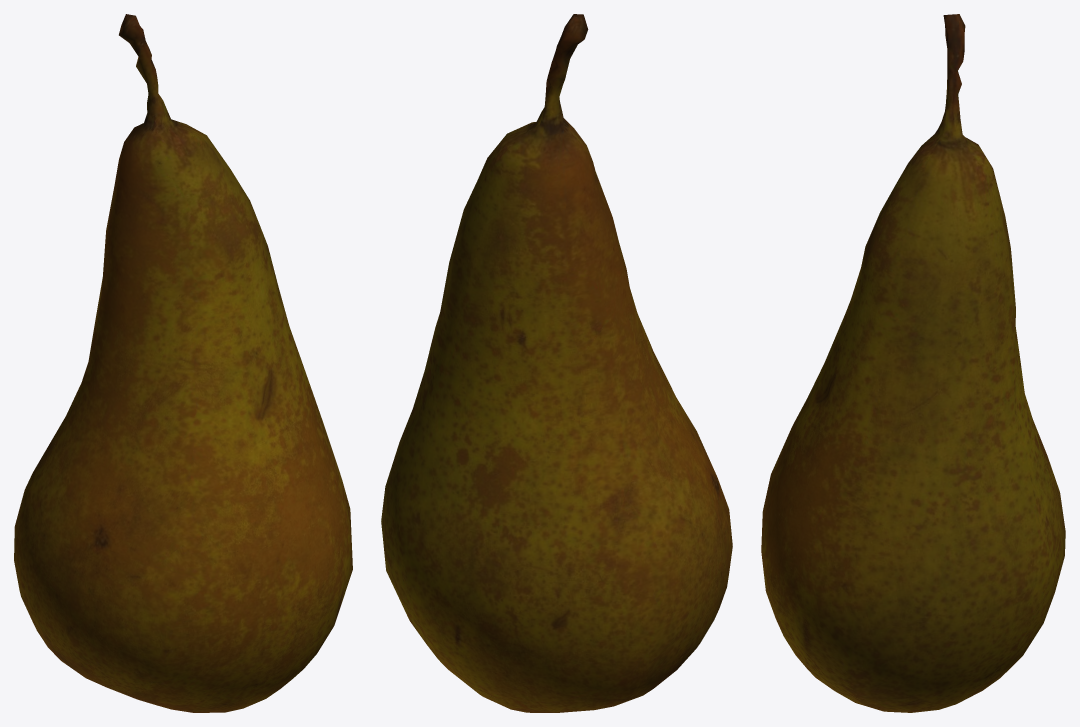
Rendered from 02_pear.glb.
The picture shows the model from 3 angles, left to right: view 1: azimuth 30°, elevation 25°; view 2: azimuth 150°, elevation 25°; view 3: azimuth 270°, elevation 25°; orthographic projection. The views are drawn at different scales.
Visible parts, largest first — view 1: pear02_lr; view 2: pear02_lr; view 3: pear02_lr.
Part boxes in pixels (box(x1,y1,x2,y2)): pear02_lr: box(14, 14, 352, 712); pear02_lr: box(381, 14, 732, 712); pear02_lr: box(761, 14, 1065, 712).
Bounding box in the file's own units: 0.4585 × 1.02 × 0.4243.
Materials: 1 (1 with a texture image).
